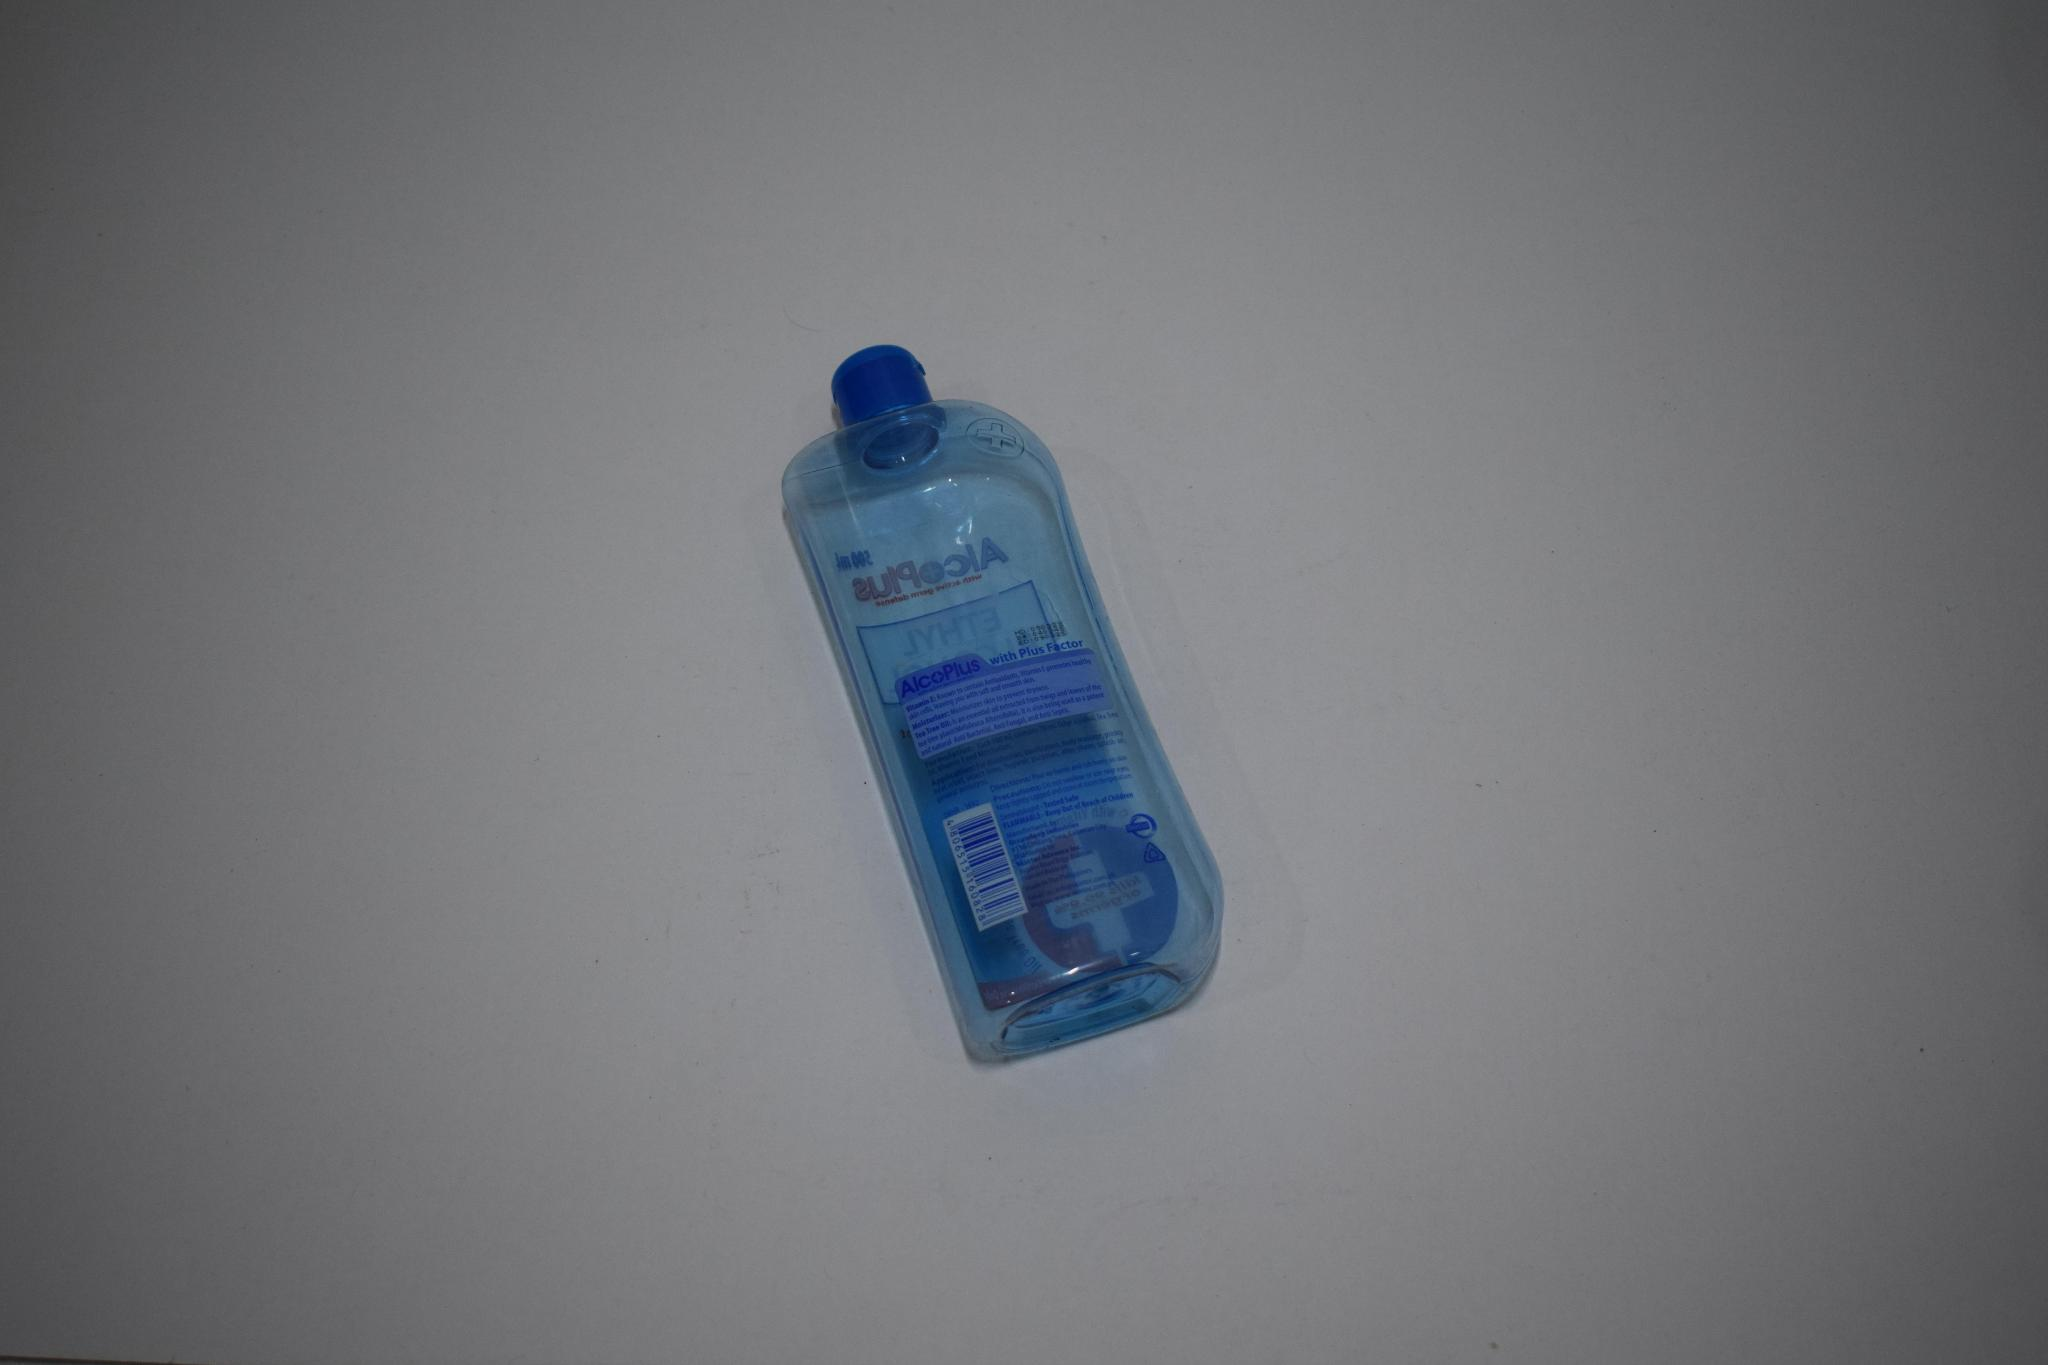bottle: (766, 323, 1238, 1079)
